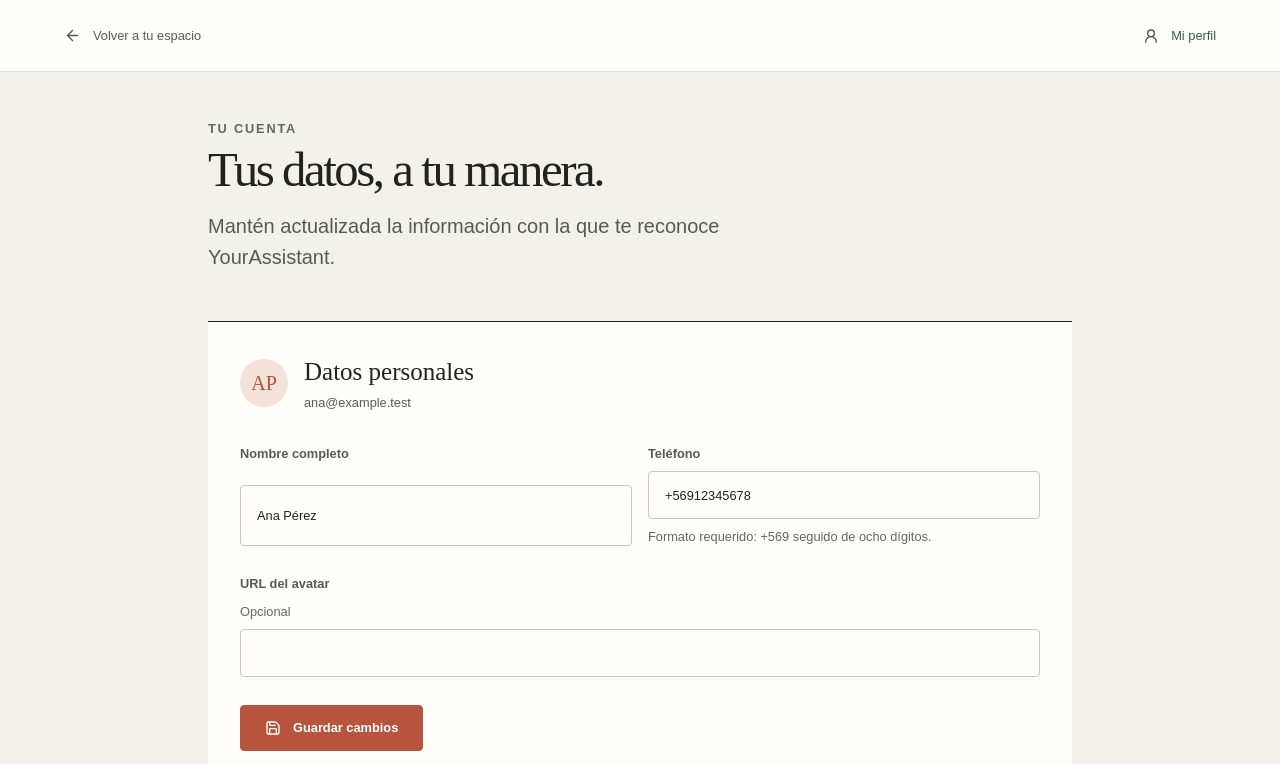
Test: ProfilePage › loads and saves personal profile data
Replace the text in the field labelled "Nombre completo" with "Ana María Pérez" at point(436, 516), box [257,494,615,537]
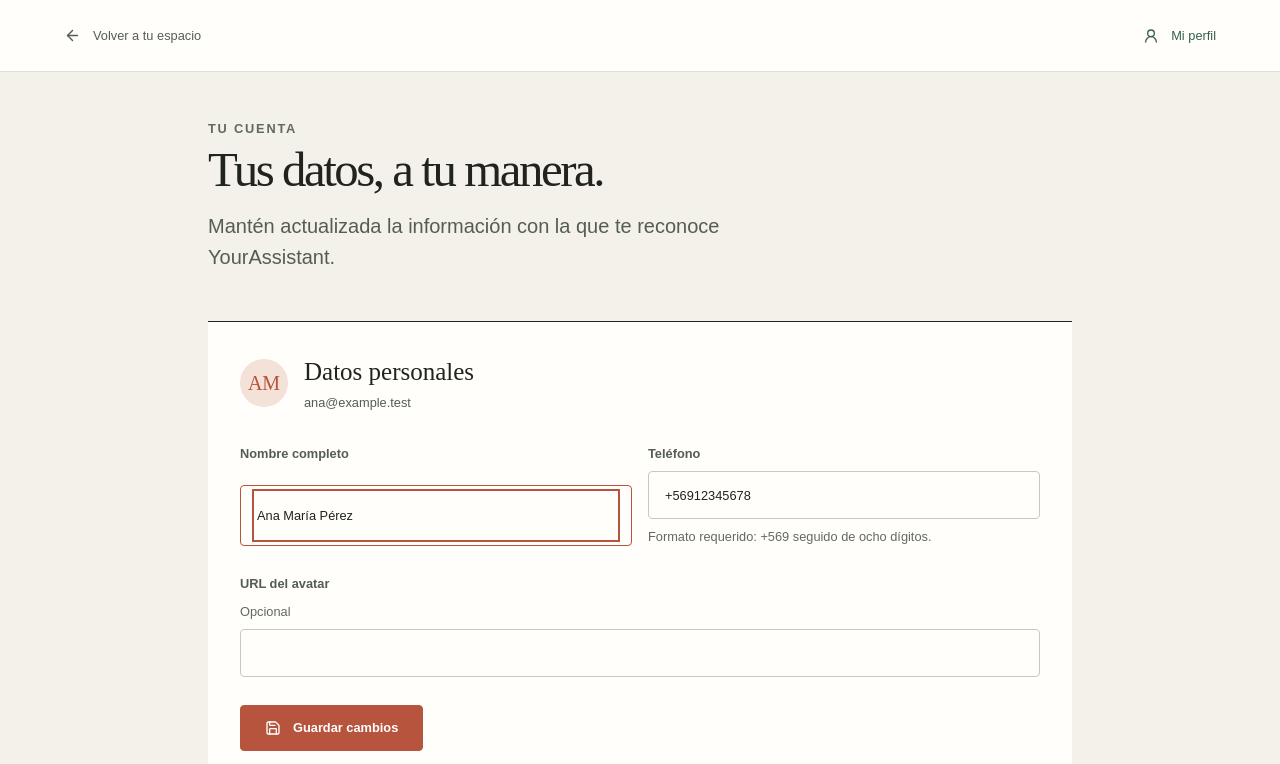
Click the button "Guardar cambios" at point(332, 728), box [240,705,423,751]
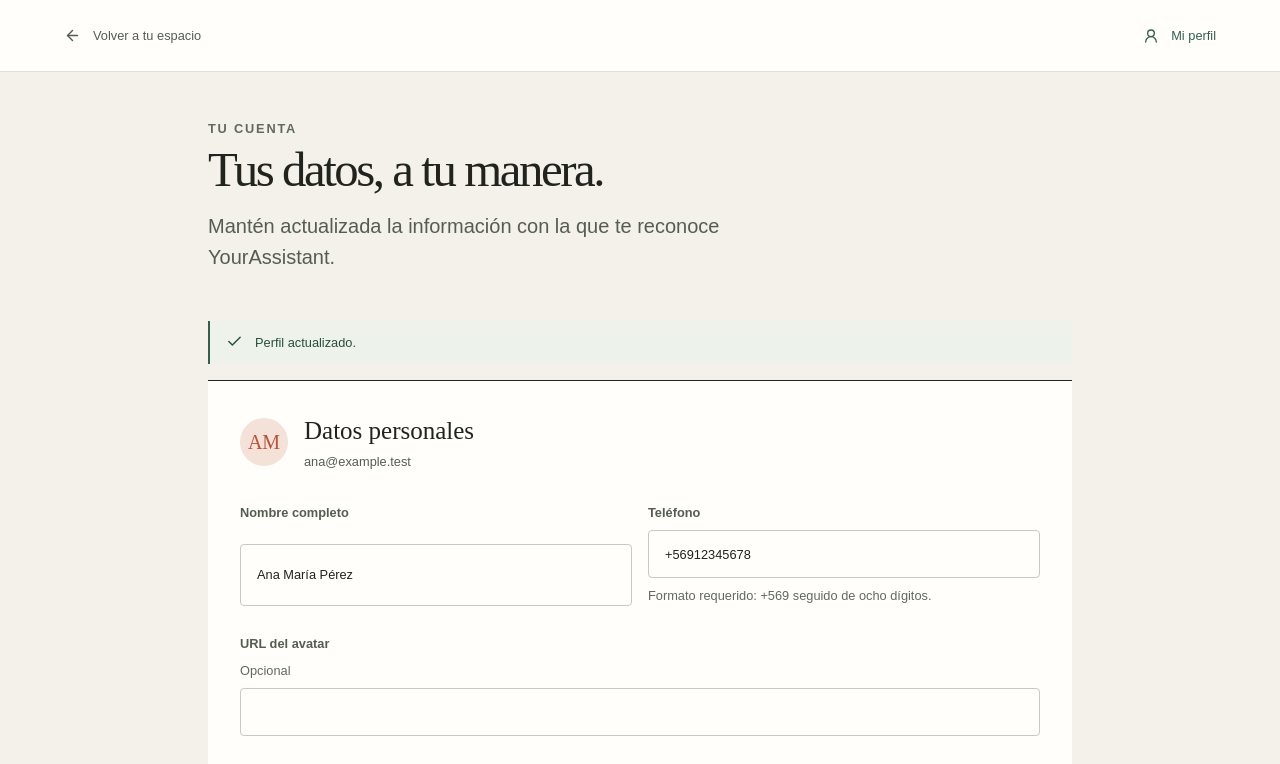
Expected: the text "Perfil actualizado." is shown, [208,321,1072,364]
